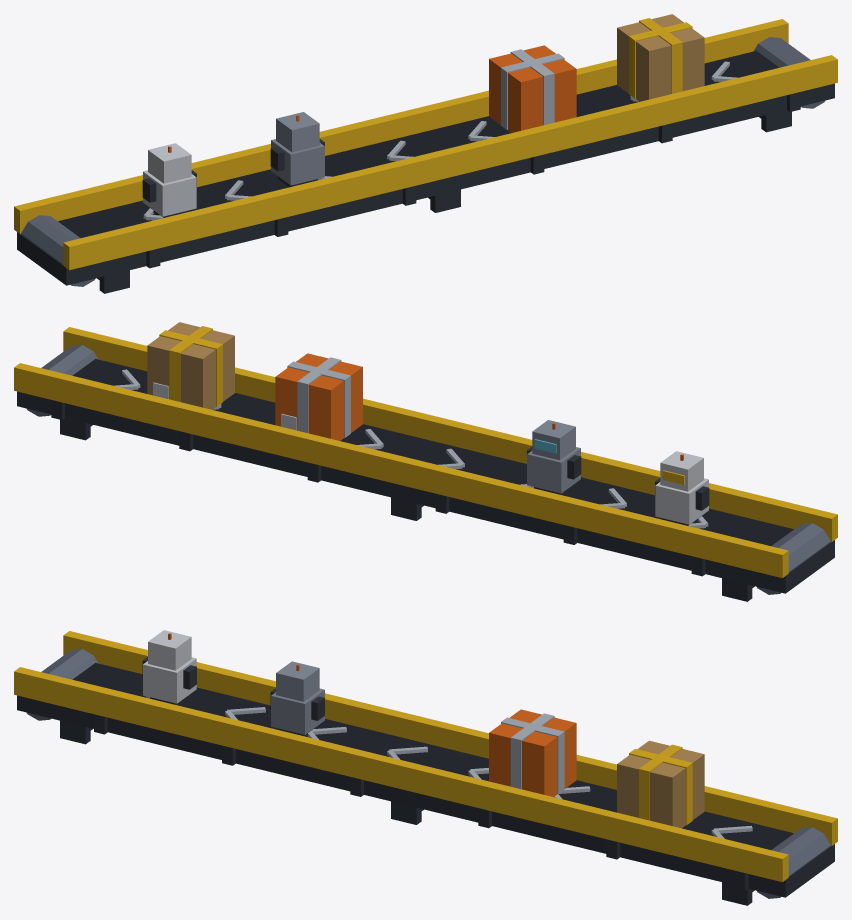
The model's file is Decor_RobotFactory_Conveyor.fbx.
3 views of the same model, one above another, from view 1: azimuth 30°, elevation 25°; view 2: azimuth 150°, elevation 25°; view 3: azimuth 330°, elevation 25° (orthographic).
Parts seen in each view (by area): view 1: Conveyor_Body; view 2: Conveyor_Body; view 3: Conveyor_Body.
Boxes of the visible parts, x1=… form: Conveyor_Body: x1=14, y1=14, x2=837, y2=293; Conveyor_Body: x1=14, y1=322, x2=837, y2=601; Conveyor_Body: x1=14, y1=630, x2=837, y2=905.
Bounding box in the file's own units: 36 × 4.9 × 4.5.
